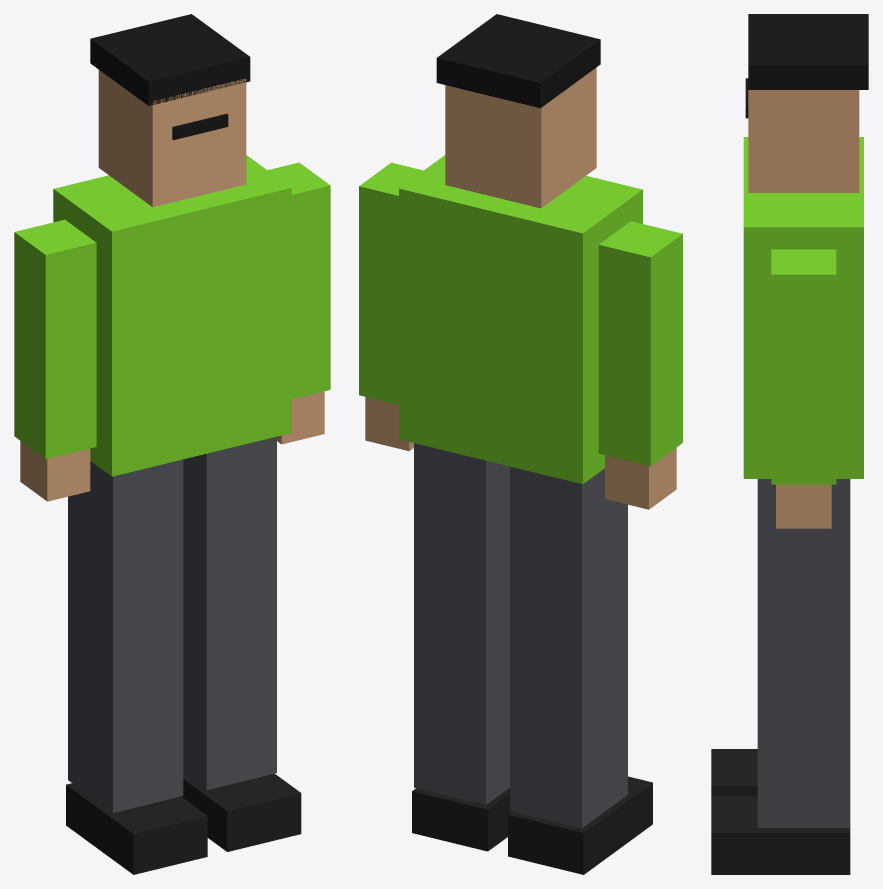
Rendered from player_3.glb.
3 renders of one model, left to right at view 1: azimuth 30°, elevation 25°; view 2: azimuth 150°, elevation 25°; view 3: azimuth 270°, elevation 25°, orthographic. The views are drawn at different scales.
Parts seen in each view (by area): view 1: torso, leg_r, leg_l, head, arm_r, arm_l; view 2: torso, leg_r, leg_l, head, arm_r, arm_l; view 3: leg_l, head, torso, arm_l, leg_r.
Boxes of the visible parts, box(x1,y1,x2,y2) form: torso: box(53, 155, 291, 476); leg_r: box(66, 459, 207, 874); leg_l: box(181, 436, 301, 851); head: box(90, 14, 250, 207); arm_r: box(14, 219, 96, 501); arm_l: box(267, 162, 330, 444); torso: box(399, 155, 642, 484); leg_r: box(508, 466, 652, 874); leg_l: box(412, 443, 511, 851); head: box(436, 14, 600, 208); arm_r: box(598, 221, 682, 509); arm_l: box(359, 162, 423, 450); leg_l: box(711, 479, 850, 874); head: box(745, 14, 868, 192); torso: box(743, 137, 863, 478); arm_l: box(771, 249, 836, 528); leg_r: box(711, 749, 757, 795).
Bounding box in the file's own units: 0.73 × 1.89 × 0.34.
